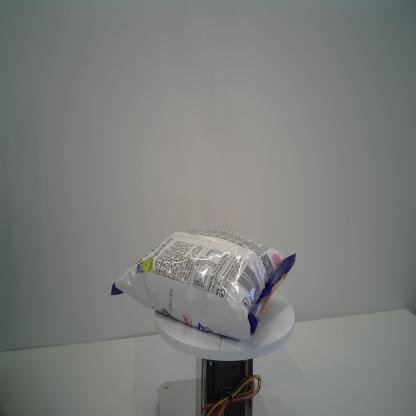Puffed Food: (108, 226, 296, 342)
